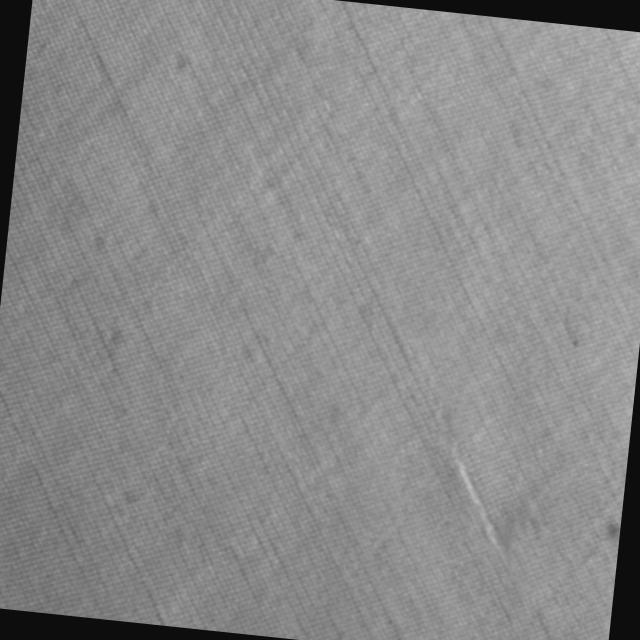thread error: (438, 434, 536, 562)
